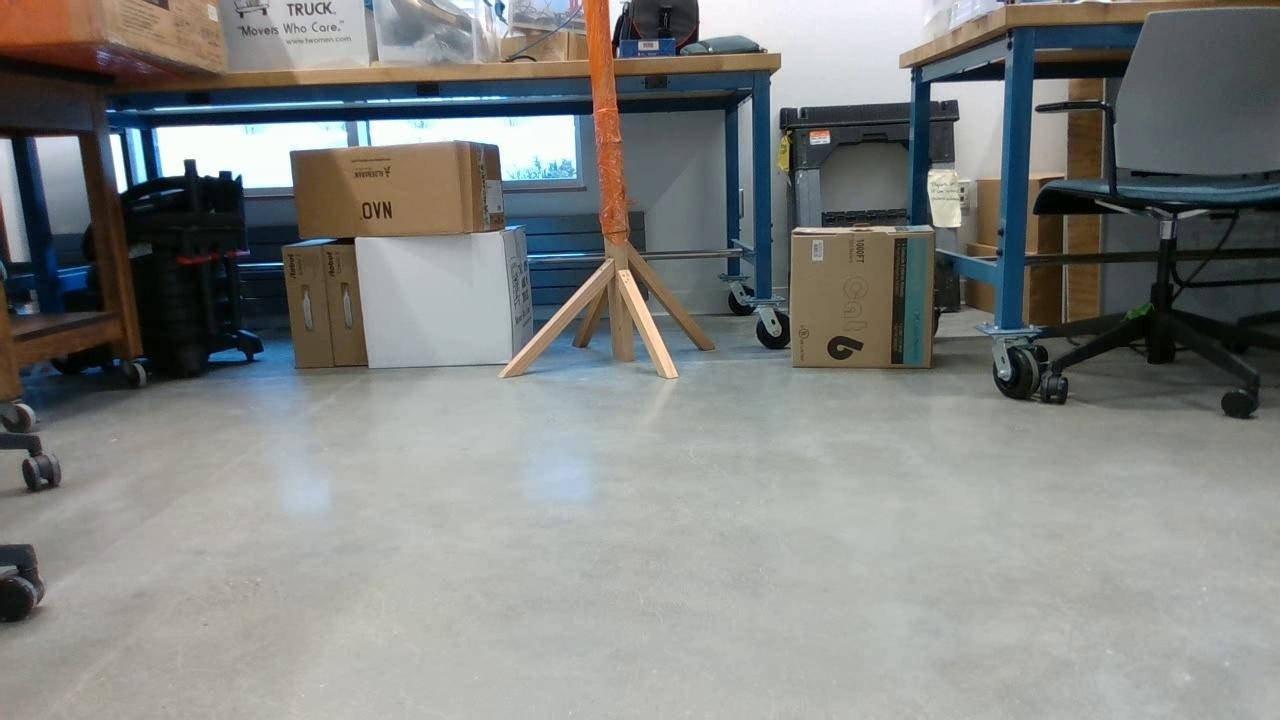grasshopper: (1116, 301, 1161, 325)
